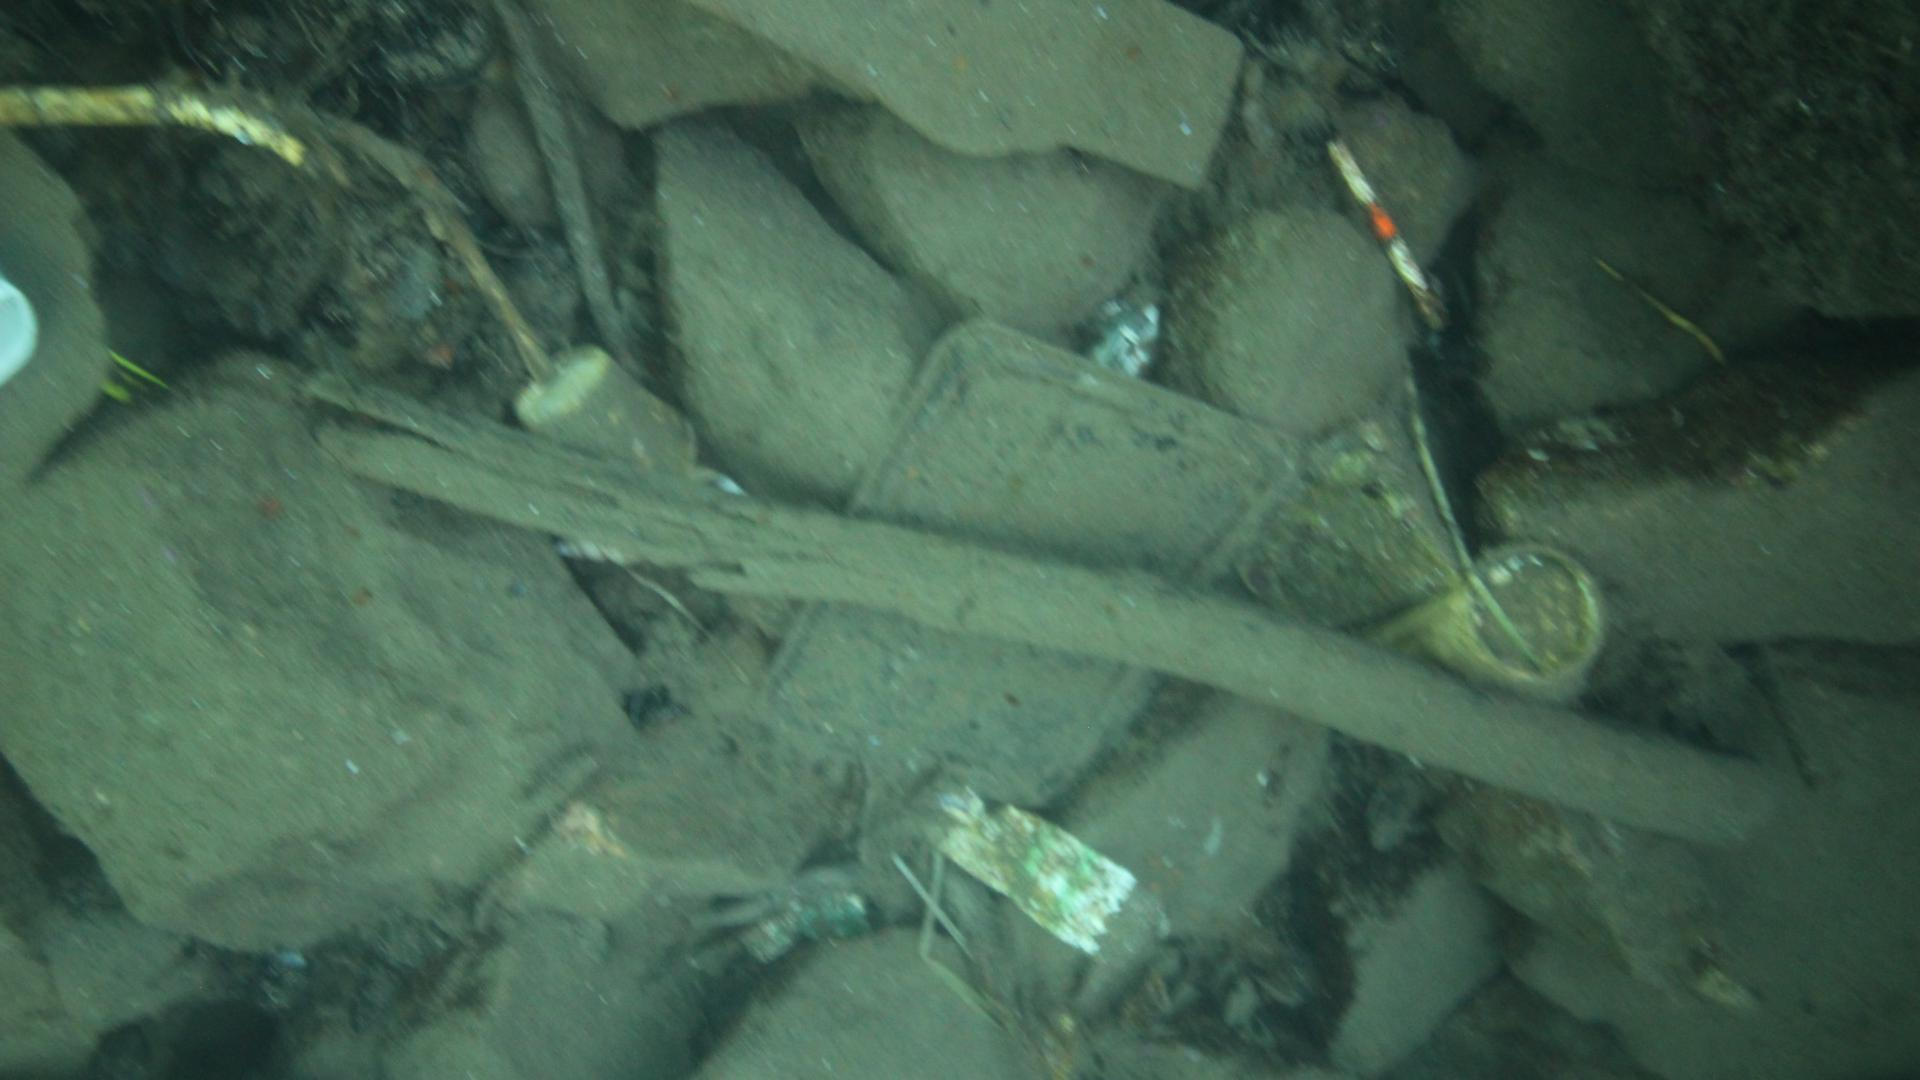wood: (306, 369, 1774, 848)
